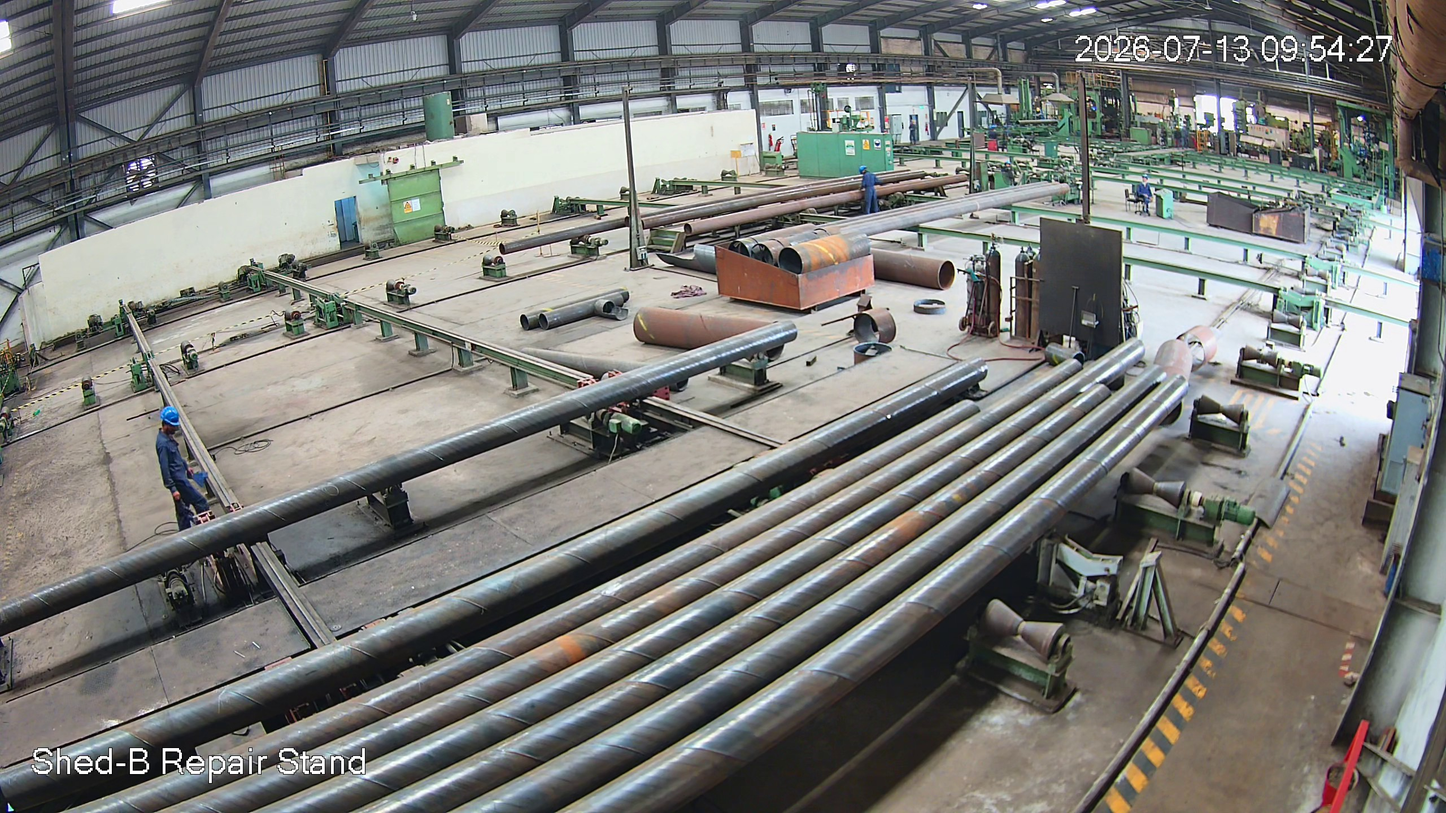Helmet: (156, 402, 185, 439), (858, 164, 872, 178)
Person: (149, 406, 213, 531), (857, 165, 882, 217)
